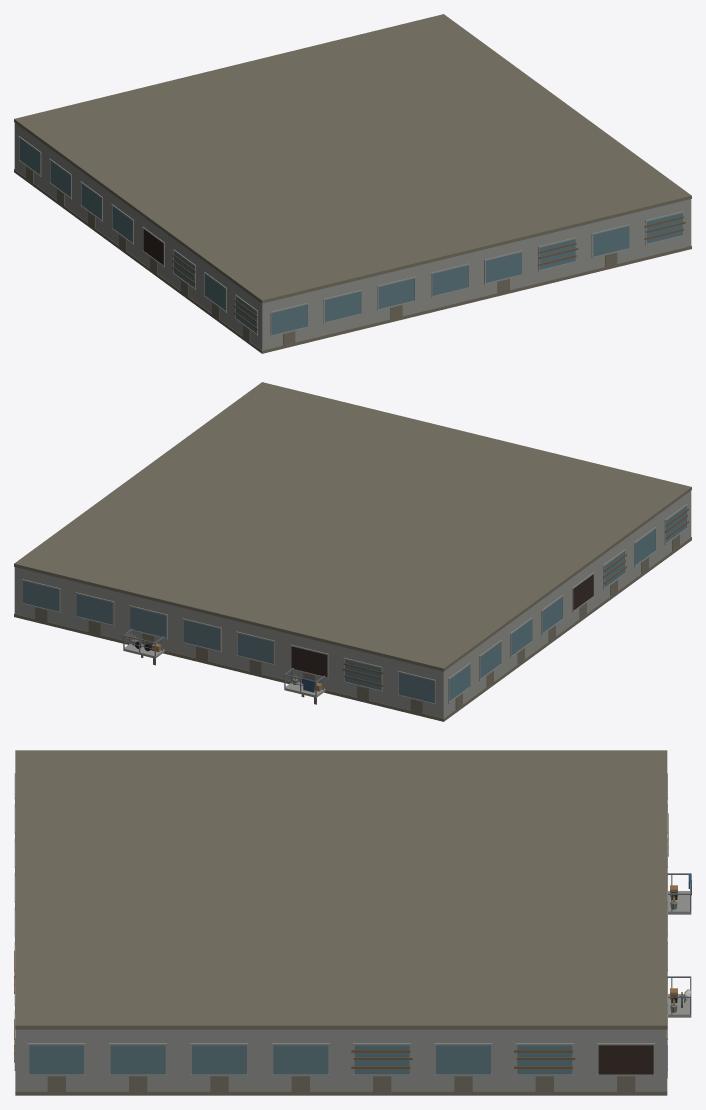
The model's file is tw_slab_32_floor_b.glb.
3 views of the same model, one above another, from view 1: azimuth 30°, elevation 25°; view 2: azimuth 150°, elevation 25°; view 3: azimuth 270°, elevation 25° (orthographic). The views are drawn at different scales.
Visible parts, largest first — view 1: tw_slab_32_floor_b; view 2: tw_slab_32_floor_b; view 3: tw_slab_32_floor_b.
Part boxes in pixels (left/top/right/bottom): tw_slab_32_floor_b: left=14, top=14, right=691, bottom=353; tw_slab_32_floor_b: left=14, top=382, right=691, bottom=721; tw_slab_32_floor_b: left=14, top=750, right=691, bottom=1095.
Bounding box in the file's own units: 32.2 × 4.78 × 33.34.
Materials: 3 (3 with a texture image).
